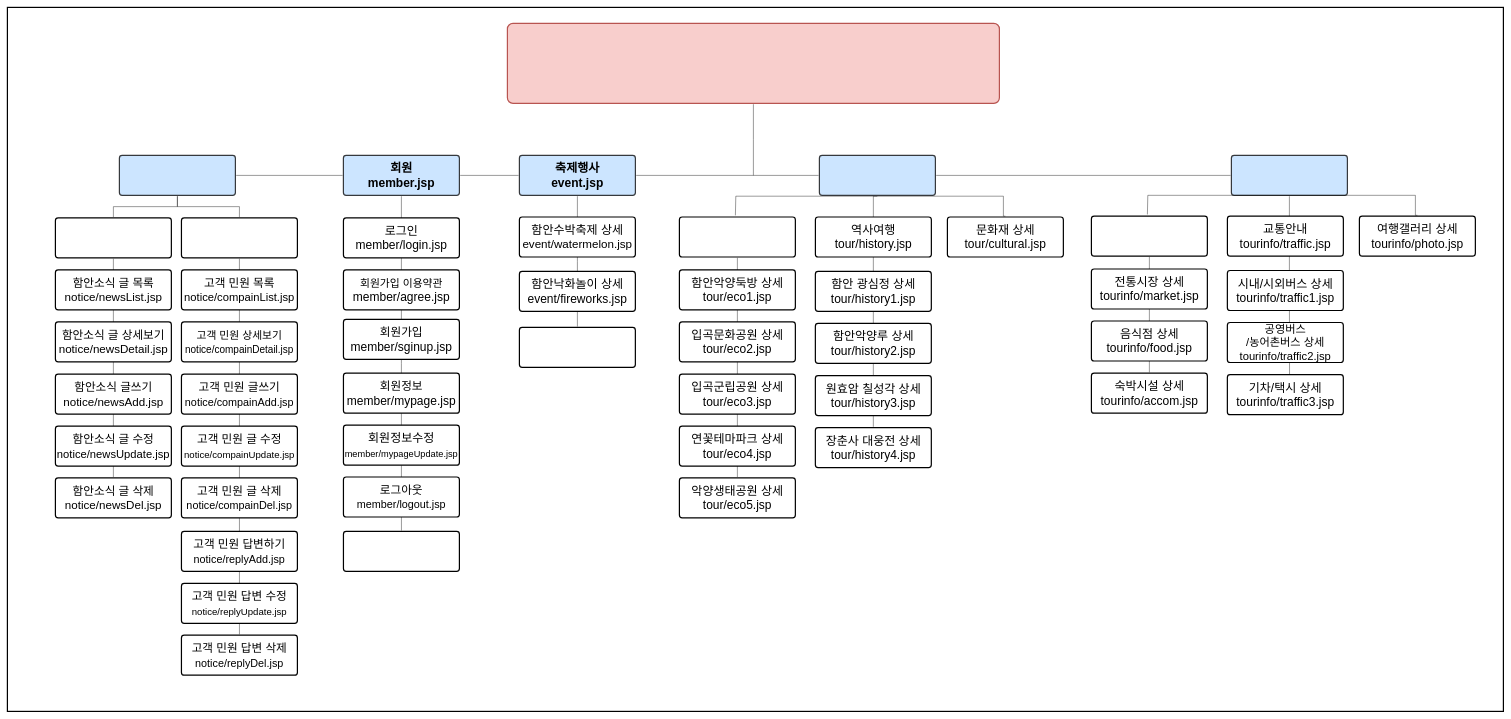
Image size: 1511x719. Some labels were removed from this diagram. The shapes that lost their labels are listed below. From the top down, each one's box as (x1, y1, x2, y2) in pixels, then its label:
(507, 23, 1000, 104): 함안 문화관광 사이트 https://haman.go.kr (index.jsp)
(119, 155, 236, 196): 공지사항 notice.jsp
(819, 155, 936, 196): 함안여행 tour.jsp
(1231, 155, 1348, 196): 관광안내 tourinfo.jsp
(55, 217, 172, 258): 함안소식 notice/news.jsp
(181, 217, 298, 258): 고객민원 notice/compain.jsp
(679, 216, 796, 257): 생태관광 tour/eco.jsp
(1091, 215, 1208, 257): 관광지도 tourinfo/map.jsp
(519, 327, 636, 368): 해바라기축제 상세 event/sunflower.jsp
(343, 531, 460, 572): 회원 탈퇴 member/del.jsp
